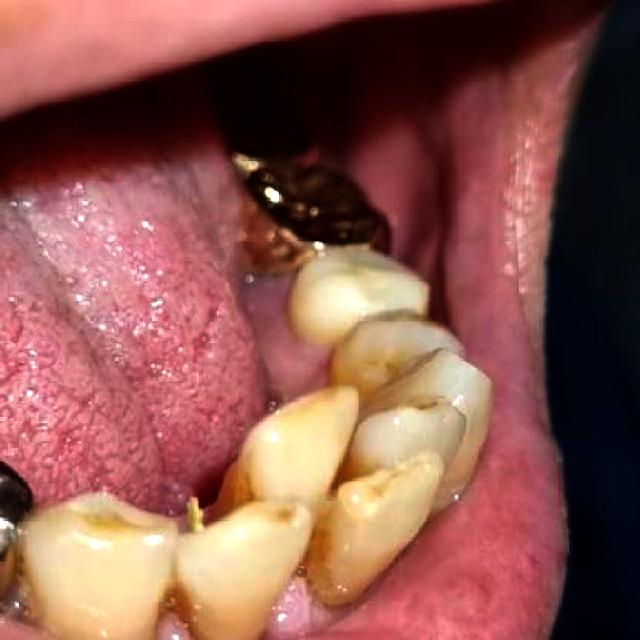Plaque: (155, 477, 331, 639)
